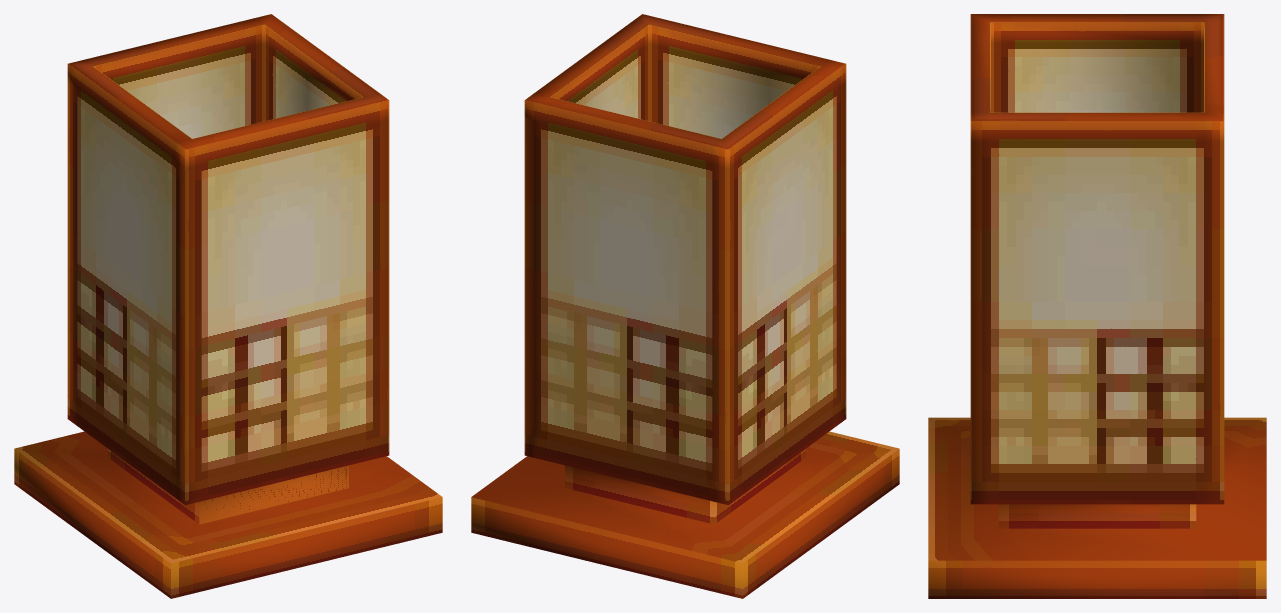
File: int_jpn_lamp.dae
3 renders of one model, left to right at view 1: azimuth 30°, elevation 25°; view 2: azimuth 150°, elevation 25°; view 3: azimuth 270°, elevation 25°, orthographic. The views are drawn at different scales.
Parts seen in each view (by area): view 1: int_jpn_lamp; view 2: int_jpn_lamp; view 3: int_jpn_lamp.
Part boxes in pixels (x1,y1,x2,y2): int_jpn_lamp: [14, 14, 442, 598]; int_jpn_lamp: [471, 14, 899, 598]; int_jpn_lamp: [928, 14, 1266, 598].
Size of the model in its own units: 19.2 by 28.8 by 19.2.
Materials: 1 (1 with a texture image).
